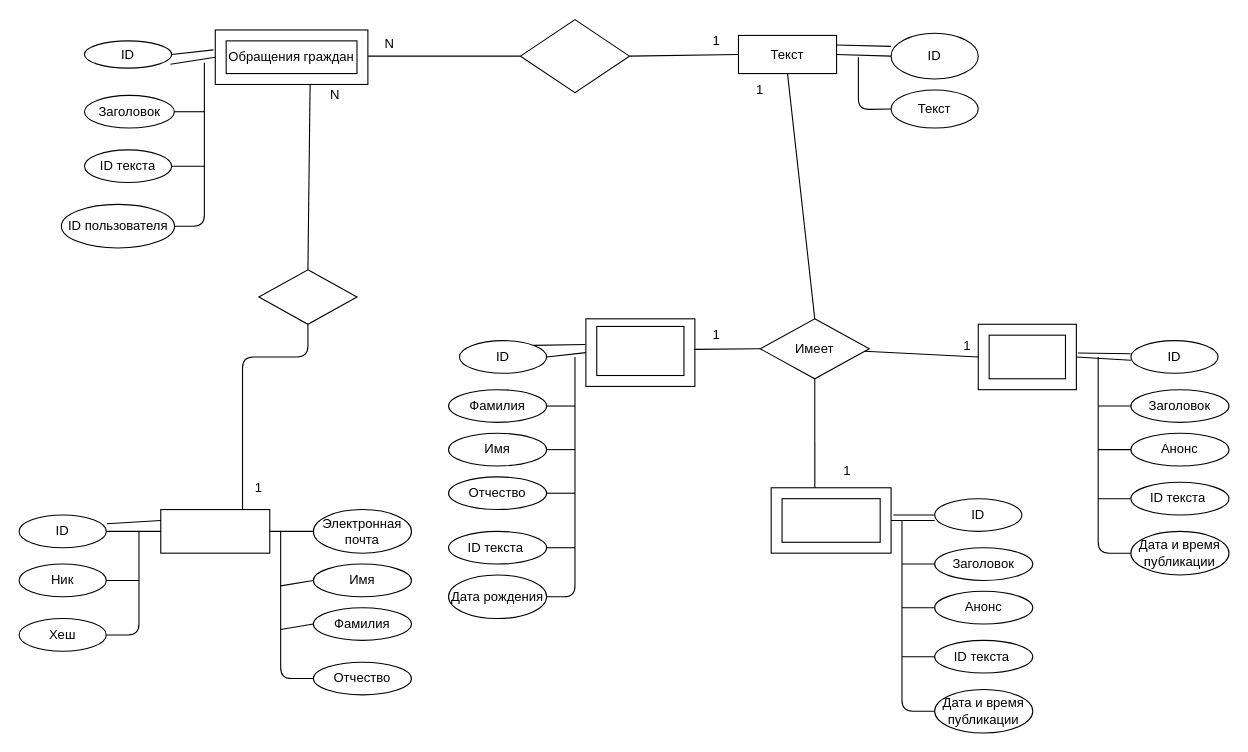
Some shapes in this 1248 by 752 pixel diagram are drawn without their labels. Each missing label, with the box of its shape:
Анонс мероприятий: (781, 498, 880, 542)
Добавляет: (258, 269, 357, 324)
Новость: (988, 334, 1065, 379)
Пользователь: (160, 508, 270, 553)
Сотрудник: (596, 325, 684, 376)
Ссылается: (519, 19, 629, 93)
